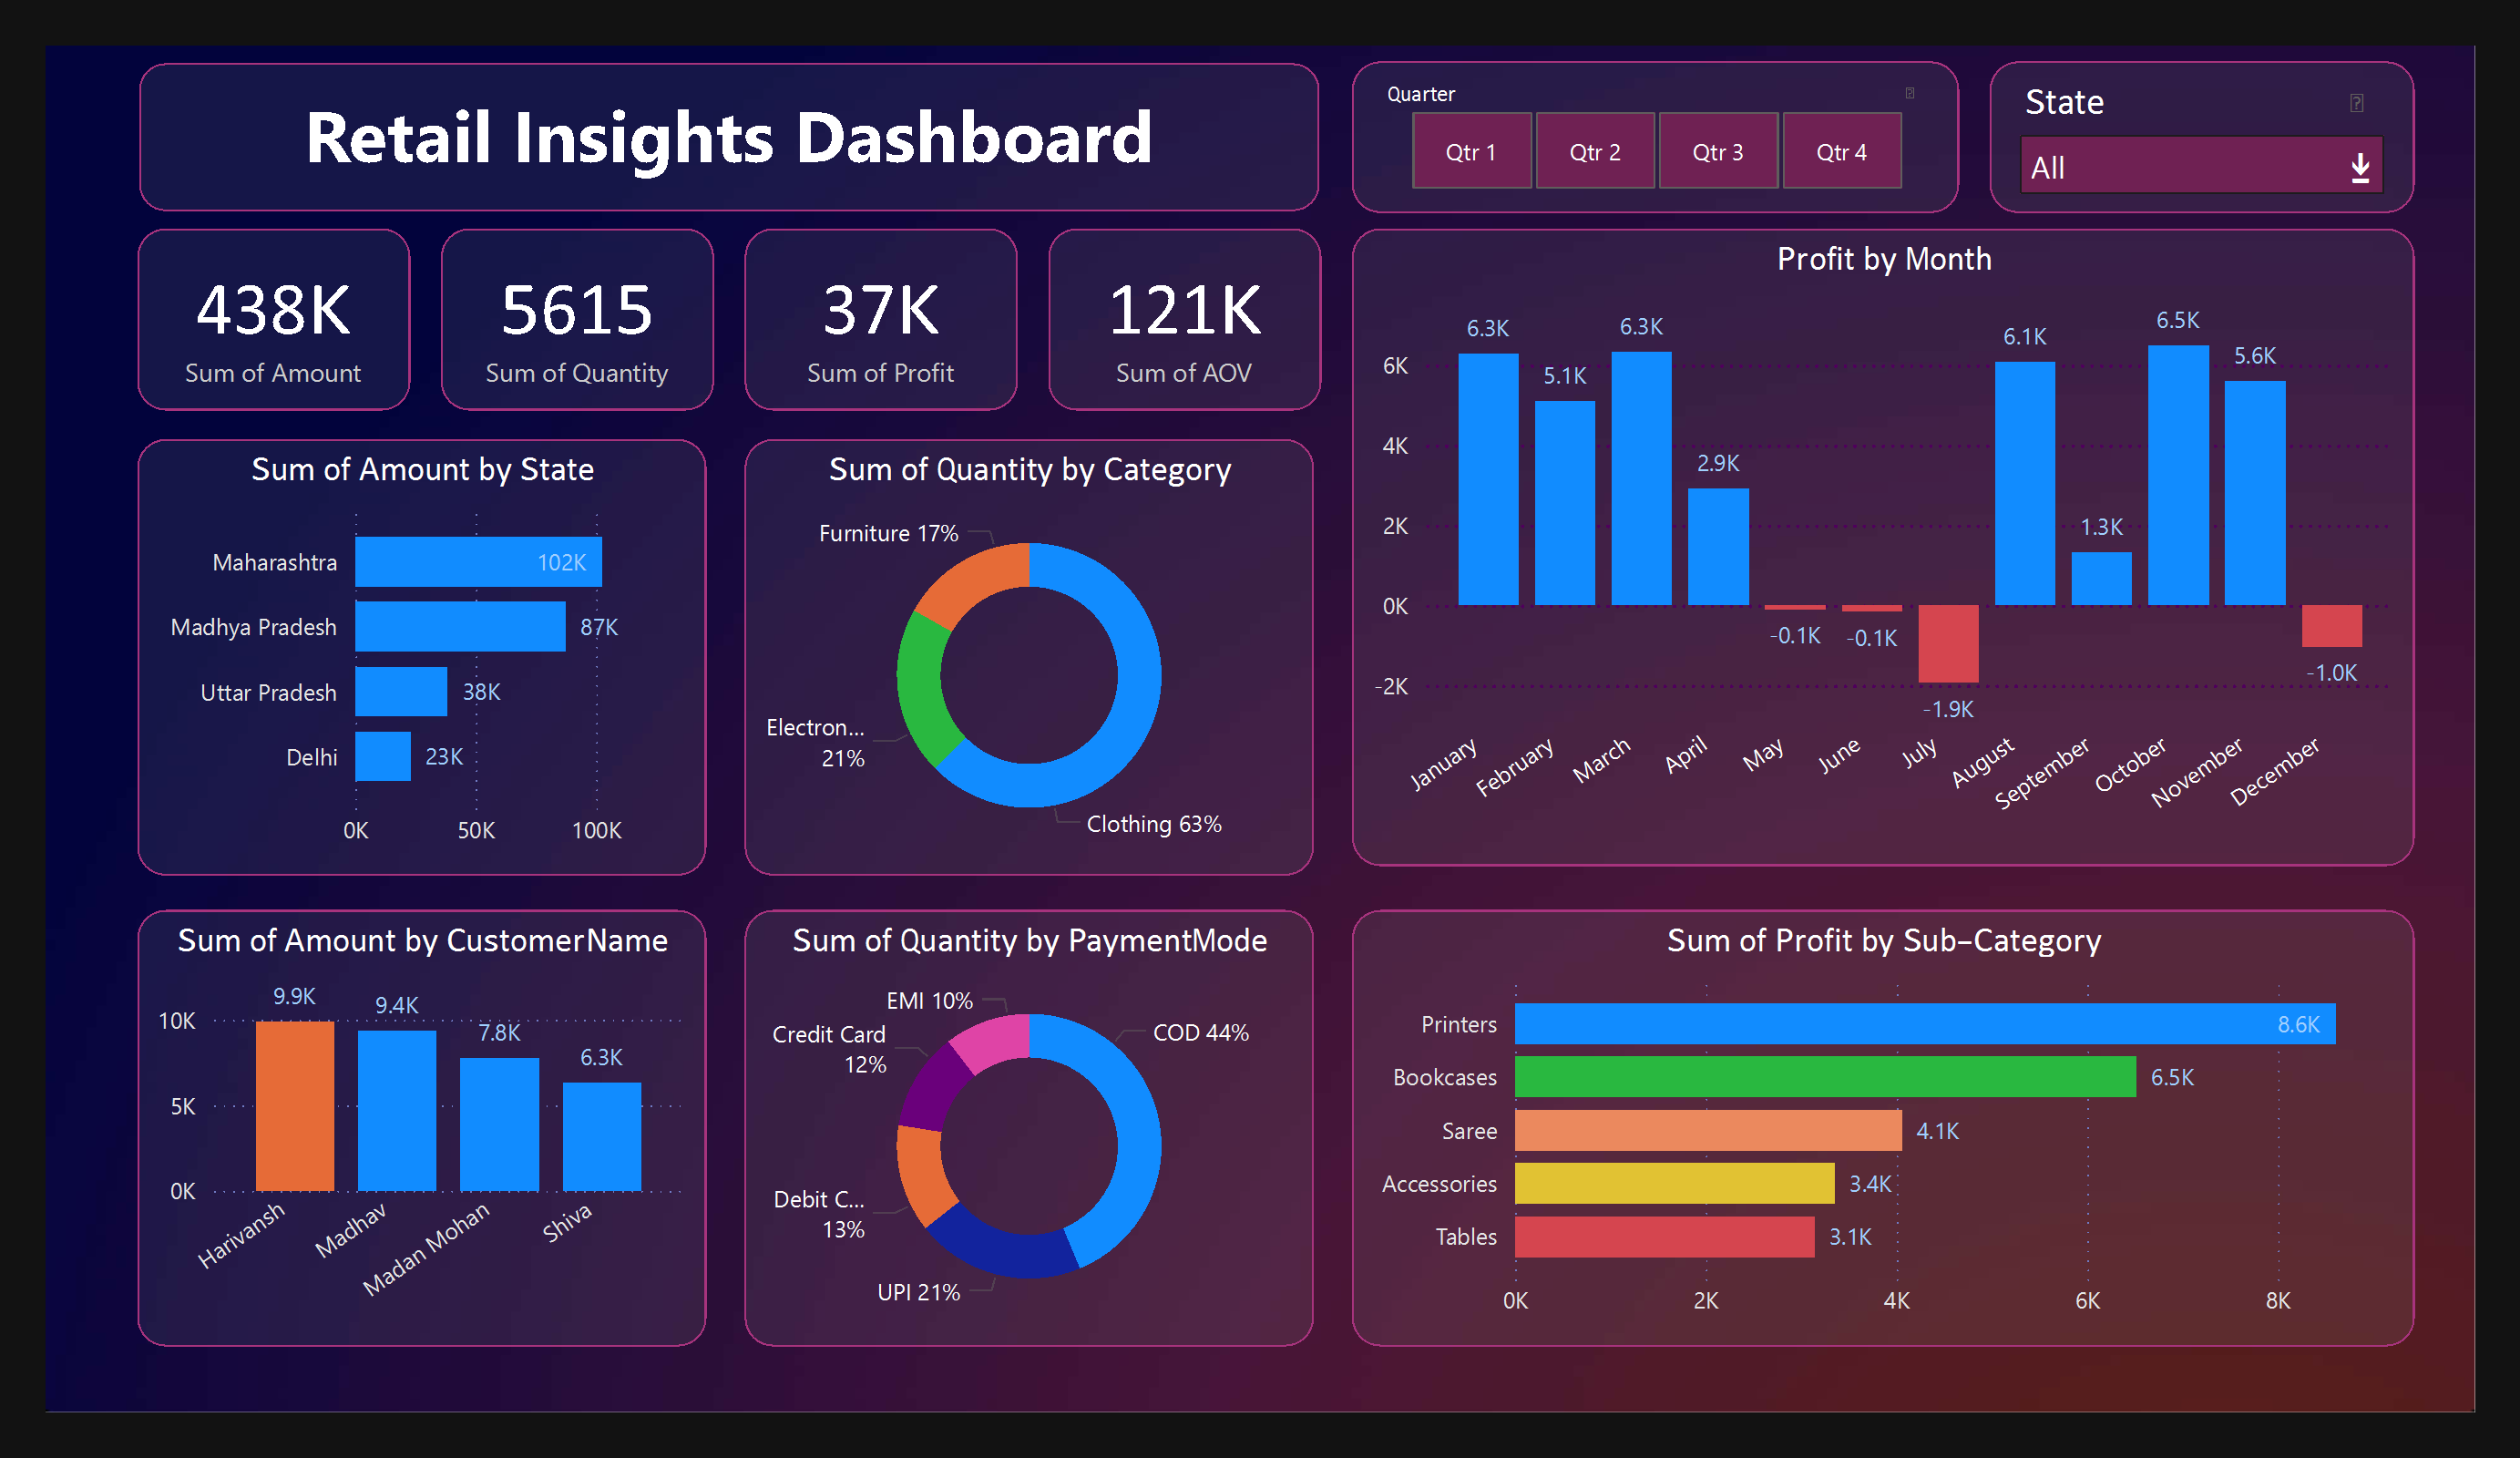

What the dashboard file says about the page in this screenshot:
{"tool":"powerbi","page":{"name":"Page 1","canvas":[1280,720],"ordinal":0},"visuals":[{"type":"columnChart","title":"Profit by Month","fields":{"Category":["Orders.Order Date.Variation.Date Hierarchy.Month"],"Y":["Details.Profit"]},"box":[688,96,560,336],"z":0},{"type":"barChart","fields":{"Y":["Details.Profit"],"Category":["Details.Sub-Category"]},"box":[688,455,560,230],"z":1000},{"type":"textbox","box":[48,8,624,80],"z":2000},{"type":"donutChart","fields":{"Category":["Details.Category"],"Y":["Details.Quantity"]},"box":[368,207,300,230],"z":3000},{"type":"donutChart","fields":{"Category":["Details.PaymentMode"],"Y":["Details.Quantity"]},"box":[368,455,300,230],"z":4000},{"type":"card","fields":{"Values":["Details.Amount"]},"box":[48,96,144,96],"z":5000},{"type":"card","fields":{"Values":["Details.Quantity"]},"box":[208,96,144,96],"z":6000},{"type":"card","fields":{"Values":["Details.Profit"]},"box":[368,96,144,96],"z":7000},{"type":"card","fields":{"Values":["Details.AOV"]},"box":[528,96,144,96],"z":8000},{"type":"barChart","fields":{"Category":["Orders.State"],"Y":["Details.Amount"]},"box":[48,207,300,230],"z":9000},{"type":"columnChart","fields":{"Category":["Orders.CustomerName"],"Y":["Details.Amount"]},"box":[48,455,300,230],"z":10000},{"type":"slicer","fields":{"Values":["Orders.Order Date.Variation.Date Hierarchy.Quarter"]},"box":[688,8,320,80],"z":11000},{"type":"slicer","fields":{"Values":["Orders.State"]},"box":[1024,8,224,80],"z":12000}]}

Visuals, with their boxes on the page's 1280x720 design canvas (x1, y1, x2, y2). These are canvas units, not pixel positions in the 2520x1458 screenshot, which may show the page scaled, cropped or inside an application window:
"Profit by Month" columnChart: x1=688, y1=96, x2=1248, y2=432
barChart - Details.Profit x Details.Sub-Category: x1=688, y1=455, x2=1248, y2=685
textbox: x1=48, y1=8, x2=672, y2=88
donutChart - Details.Category x Details.Quantity: x1=368, y1=207, x2=668, y2=437
donutChart - Details.PaymentMode x Details.Quantity: x1=368, y1=455, x2=668, y2=685
card - Details.Amount: x1=48, y1=96, x2=192, y2=192
card - Details.Quantity: x1=208, y1=96, x2=352, y2=192
card - Details.Profit: x1=368, y1=96, x2=512, y2=192
card - Details.AOV: x1=528, y1=96, x2=672, y2=192
barChart - Orders.State x Details.Amount: x1=48, y1=207, x2=348, y2=437
columnChart - Orders.CustomerName x Details.Amount: x1=48, y1=455, x2=348, y2=685
slicer - Orders.Order Date.Variation.Date Hierarchy.Quarter: x1=688, y1=8, x2=1008, y2=88
slicer - Orders.State: x1=1024, y1=8, x2=1248, y2=88
